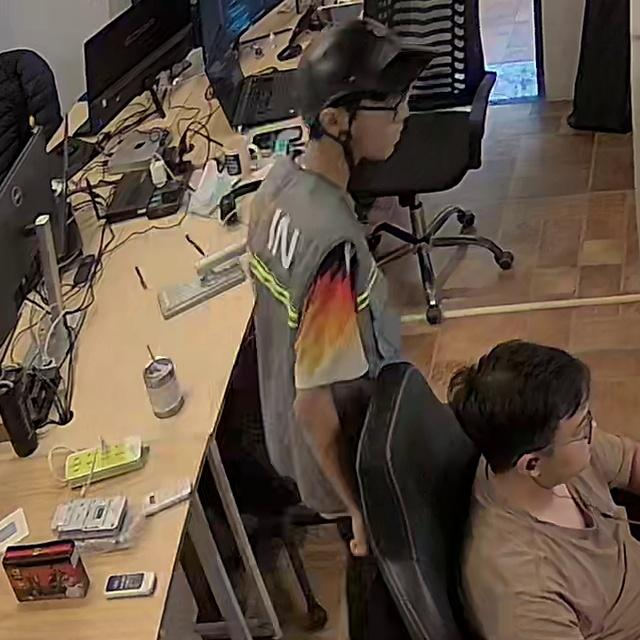helmet: (291, 19, 426, 119)
no_helmet: (453, 342, 587, 471)
none: (462, 436, 639, 637)
vest: (242, 156, 401, 518)
